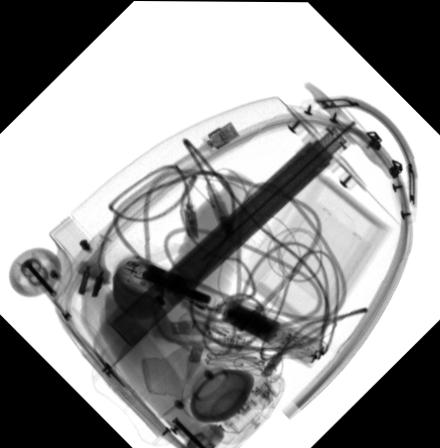Baton: (110, 254, 328, 367)
